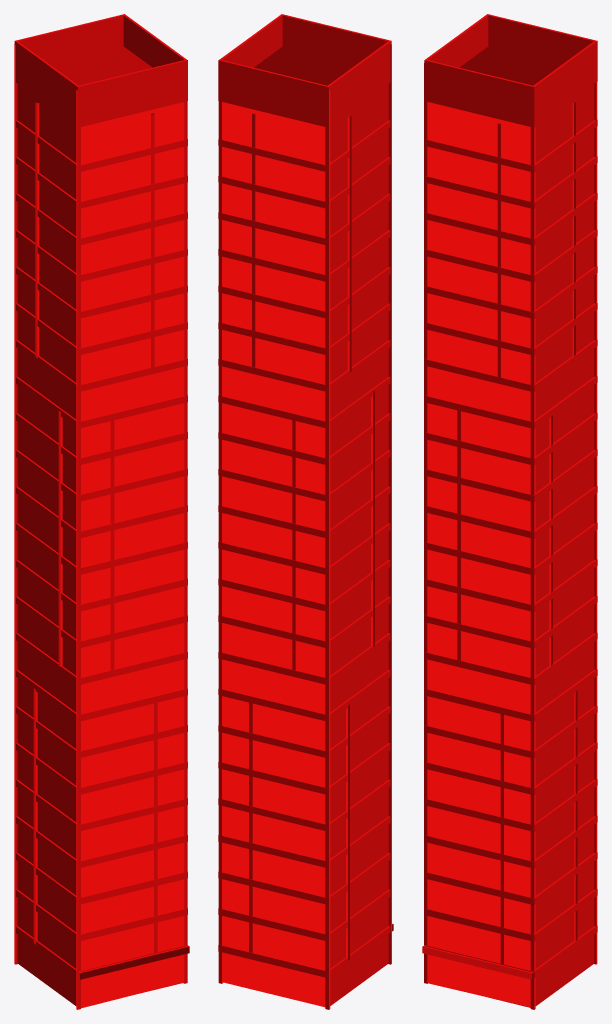
File: TallBuilding_M_V1_Raghu.fbx
3 views of the same model, side by side, from view 1: azimuth 30°, elevation 25°; view 2: azimuth 150°, elevation 25°; view 3: azimuth 330°, elevation 25° (orthographic).
Visible parts, largest first — view 1: tallBuilding_M_v1_raghu_low; view 2: tallBuilding_M_v1_raghu_low; view 3: tallBuilding_M_v1_raghu_low.
Part boxes in pixels (bbox=[...]): tallBuilding_M_v1_raghu_low: bbox=[14, 14, 189, 1009]; tallBuilding_M_v1_raghu_low: bbox=[218, 14, 393, 1009]; tallBuilding_M_v1_raghu_low: bbox=[422, 14, 597, 1009].
Bounding box in the file's own units: 1038 × 8285 × 1062.
